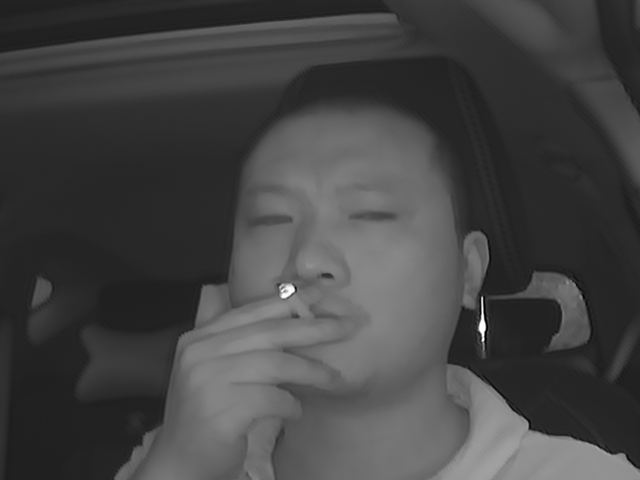hand: (207, 279, 360, 435)
